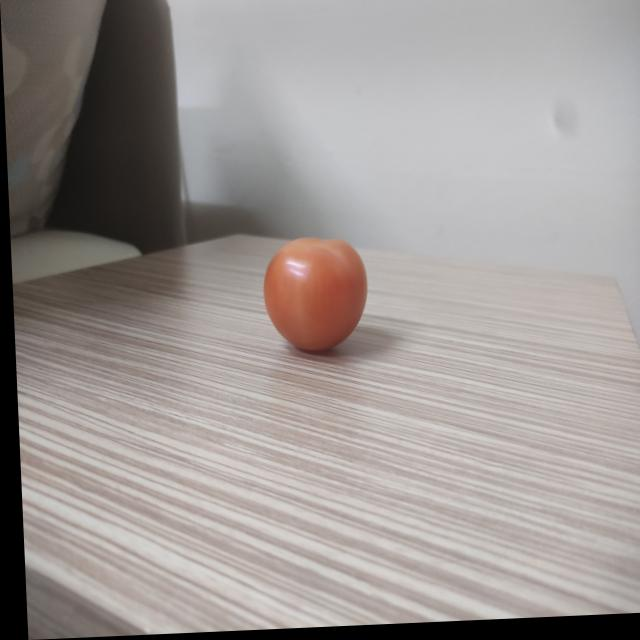sari: (249, 212, 377, 368)
